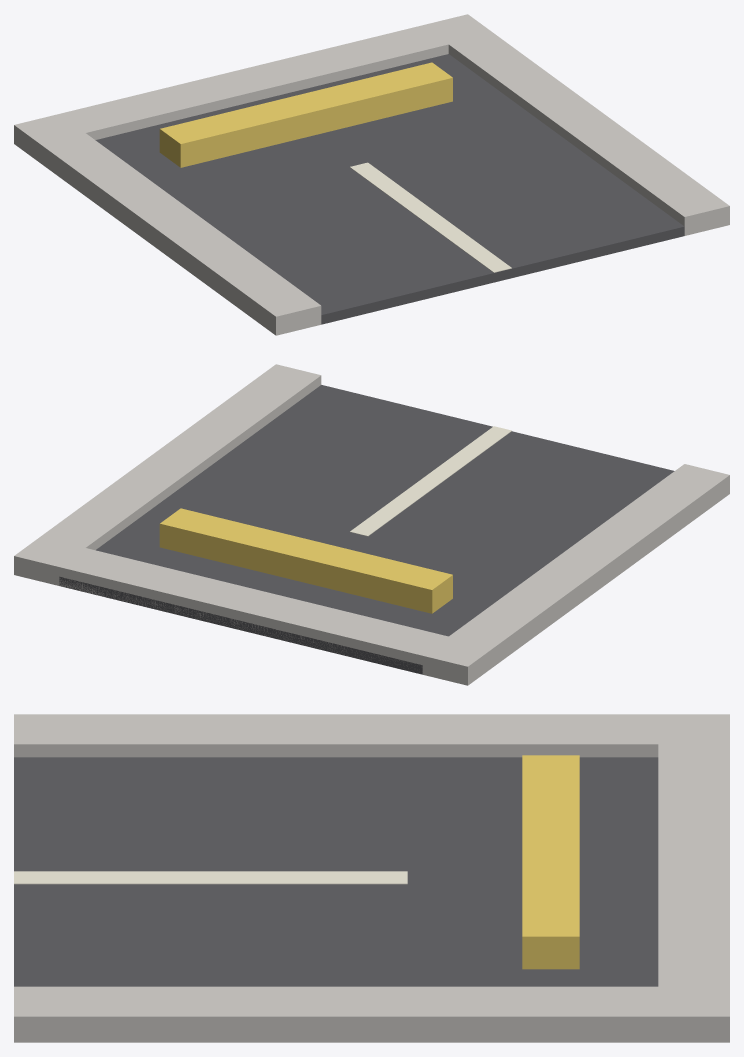
The model's file is road_deadend.glb.
3 views of the same model, one above another, from view 1: azimuth 30°, elevation 25°; view 2: azimuth 150°, elevation 25°; view 3: azimuth 270°, elevation 25° (orthographic). The views are drawn at different scales.
Parts seen in each view (by area): view 1: Deadend_Asphalt, Deadend_Curb_W, Deadend_Curb_End, Deadend_Curb_E, Deadend_Bumper, Deadend_Stripe; view 2: Deadend_Asphalt, Deadend_Curb_End, Deadend_Curb_W, Deadend_Curb_E, Deadend_Bumper, Deadend_Stripe; view 3: Deadend_Asphalt, Deadend_Curb_E, Deadend_Curb_W, Deadend_Curb_End, Deadend_Bumper, Deadend_Stripe.
Boxes of the visible parts, bbox=[...] form: Deadend_Asphalt: bbox=[95, 54, 684, 324]; Deadend_Curb_W: bbox=[40, 133, 321, 335]; Deadend_Curb_End: bbox=[14, 14, 493, 162]; Deadend_Curb_E: bbox=[448, 33, 729, 235]; Deadend_Bumper: bbox=[159, 62, 452, 167]; Deadend_Stripe: bbox=[350, 162, 511, 272]; Deadend_Asphalt: bbox=[59, 385, 674, 674]; Deadend_Curb_End: bbox=[14, 537, 493, 685]; Deadend_Curb_W: bbox=[449, 464, 729, 666]; Deadend_Curb_E: bbox=[40, 364, 321, 550]; Deadend_Bumper: bbox=[159, 508, 452, 613]; Deadend_Stripe: bbox=[350, 426, 511, 536]; Deadend_Asphalt: bbox=[14, 757, 658, 986]; Deadend_Curb_E: bbox=[14, 986, 658, 1042]; Deadend_Curb_W: bbox=[14, 714, 658, 757]; Deadend_Curb_End: bbox=[658, 714, 729, 1042]; Deadend_Bumper: bbox=[522, 755, 579, 969]; Deadend_Stripe: bbox=[14, 871, 407, 884].
Bounding box in the file's own units: 1 × 0.07 × 1.
